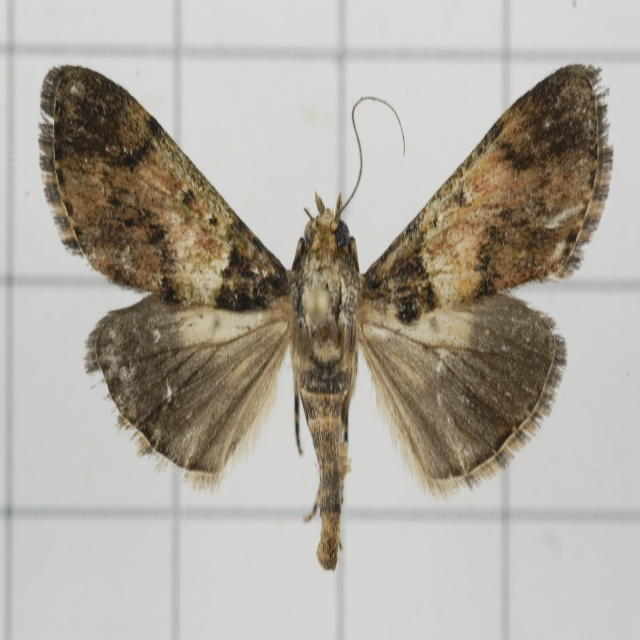Moths and butterflies: (36, 60, 614, 573)
